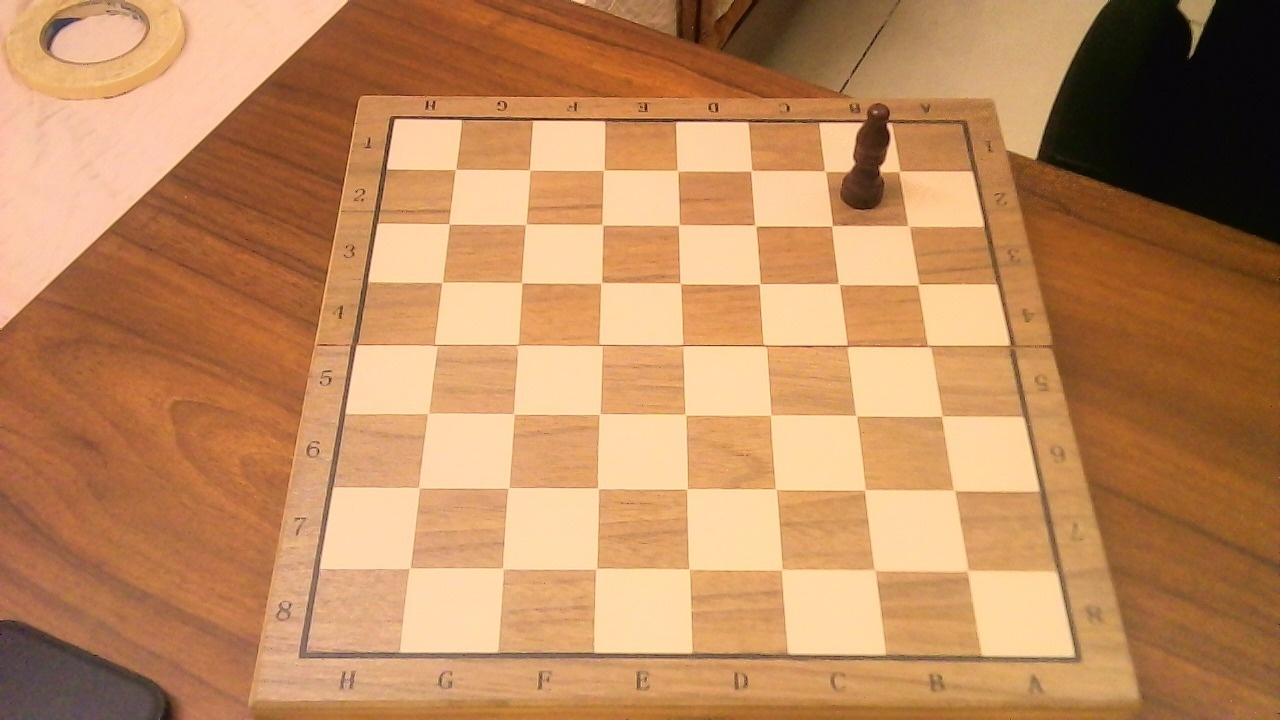b: (834, 89, 905, 214)
